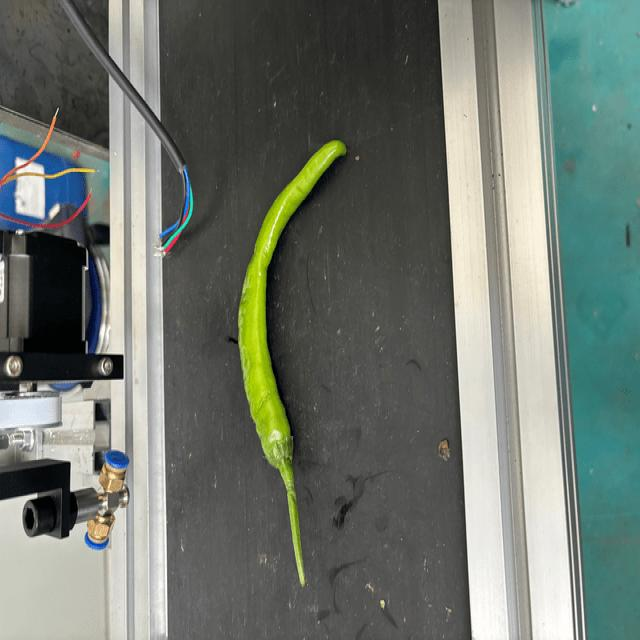chili: (237, 135, 348, 472)
